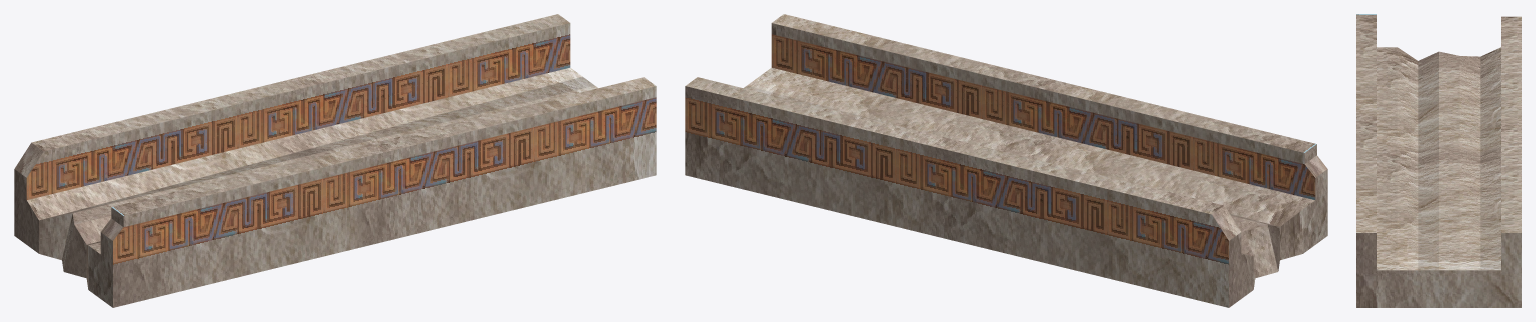
Rendered from bridge.gltf.
3 renders of one model, left to right at view 1: azimuth 30°, elevation 25°; view 2: azimuth 150°, elevation 25°; view 3: azimuth 270°, elevation 25°, orthographic. The views are drawn at different scales.
Parts seen in each view (by area): view 1: mesh; view 2: mesh; view 3: mesh.
Boxes of the visible parts, box(x1,y1,x2,y2) form: mesh: box(14, 14, 656, 307); mesh: box(685, 14, 1327, 307); mesh: box(1356, 14, 1521, 307).
Size of the model in its own units: 3.19 by 0.5 by 1.
Materials: 1 (1 with a texture image).
